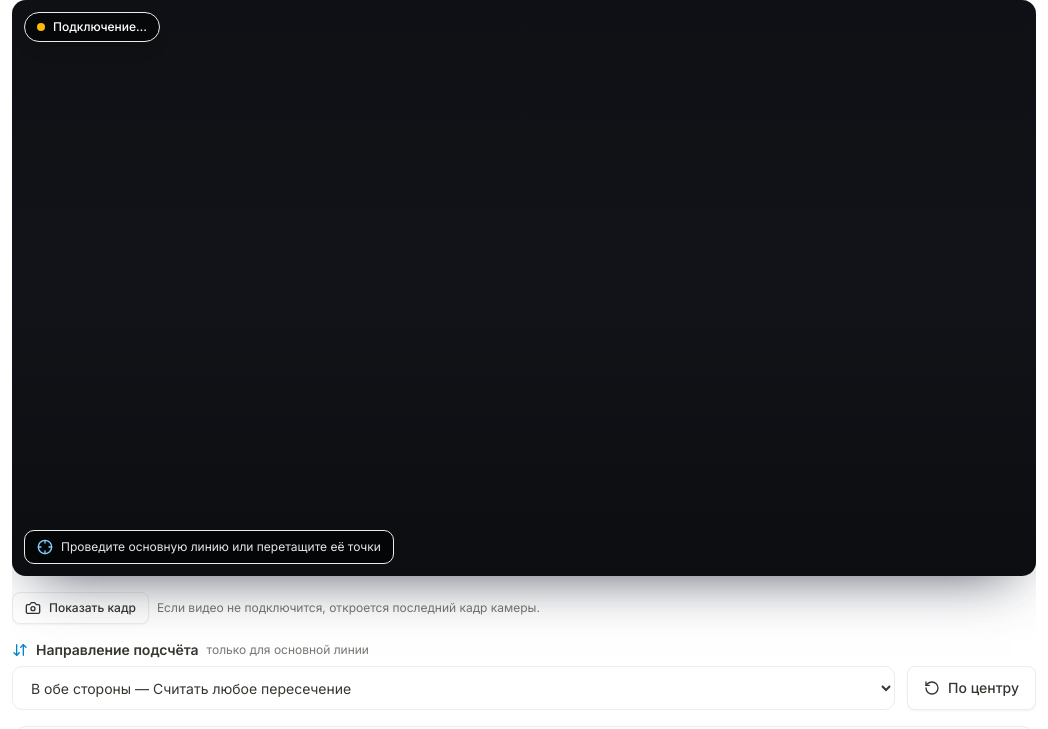
it: CameraLineEditor still frame › switches to the still frame on demand and shows its error inside the editor
Step 1. Click the button "Показать кадр" → (80, 608), box [12, 592, 149, 624]
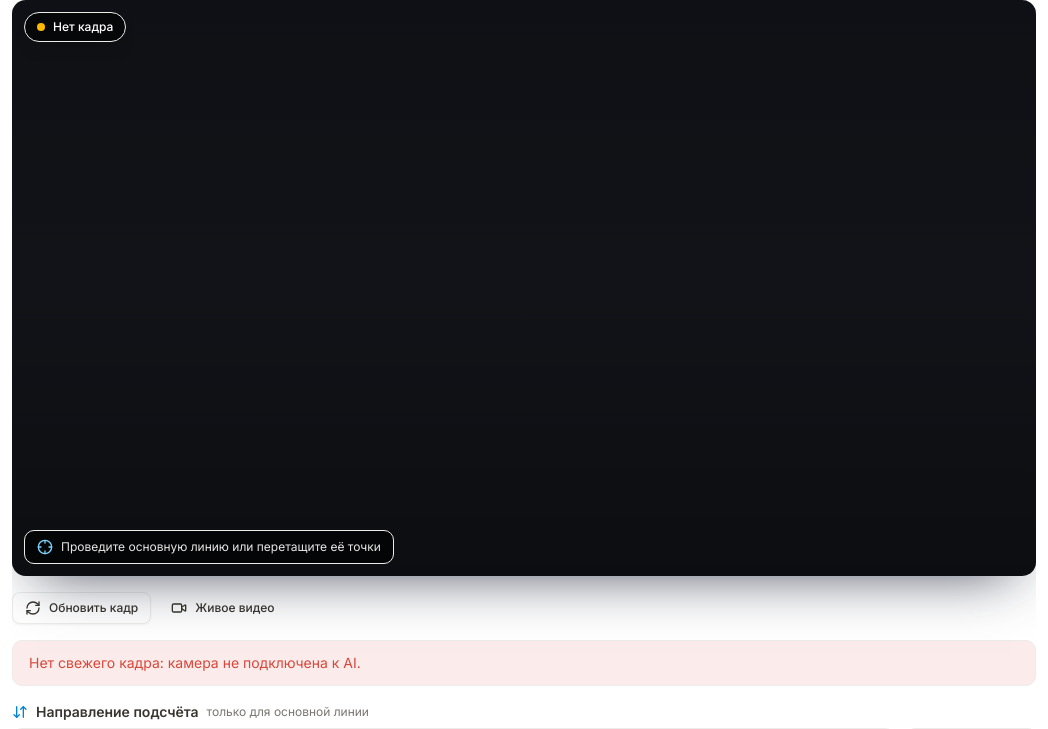
Expected: the message reads "Нет свежего кадра: камера не подключена к AI.", [29, 654, 361, 671]
